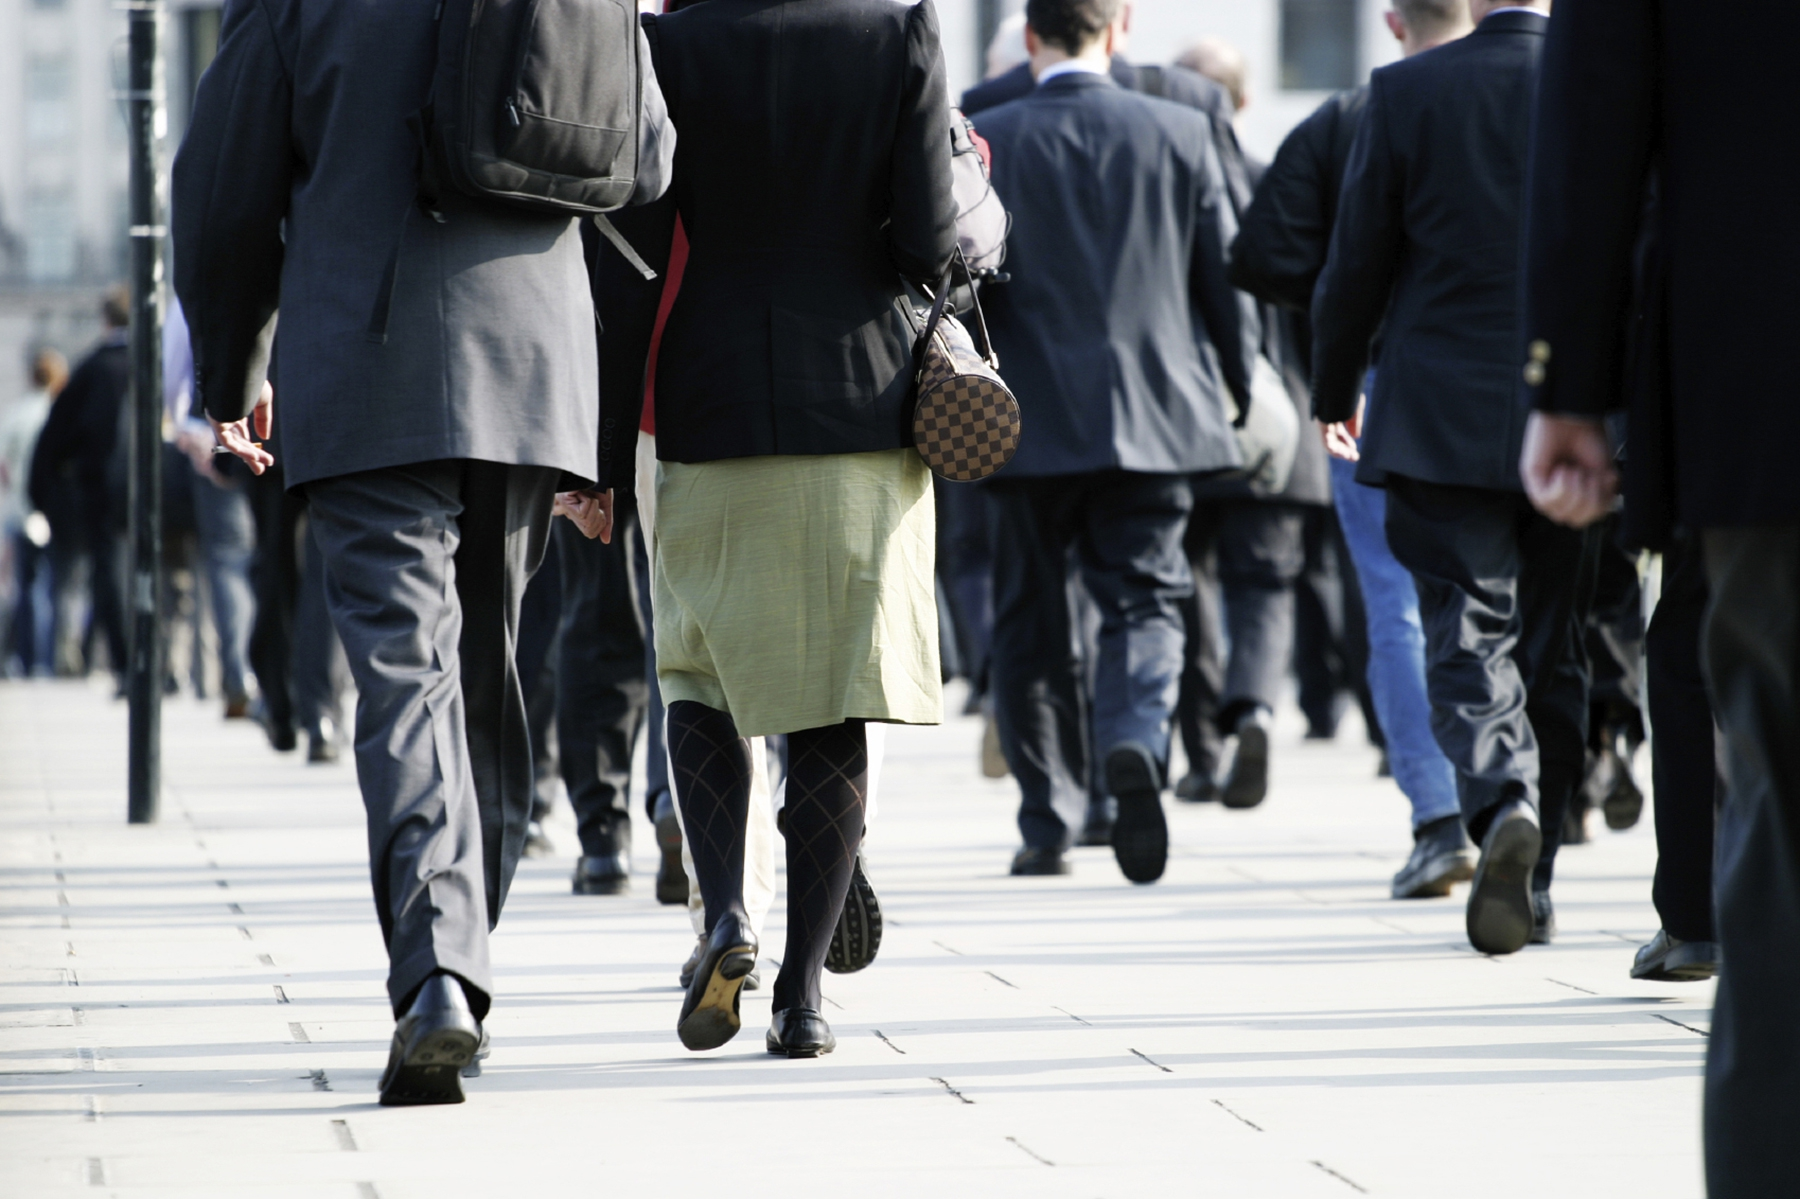pedestrian: (147, 5, 597, 1118), (559, 4, 1005, 1091), (1316, 7, 1646, 957), (944, 2, 1246, 898)
